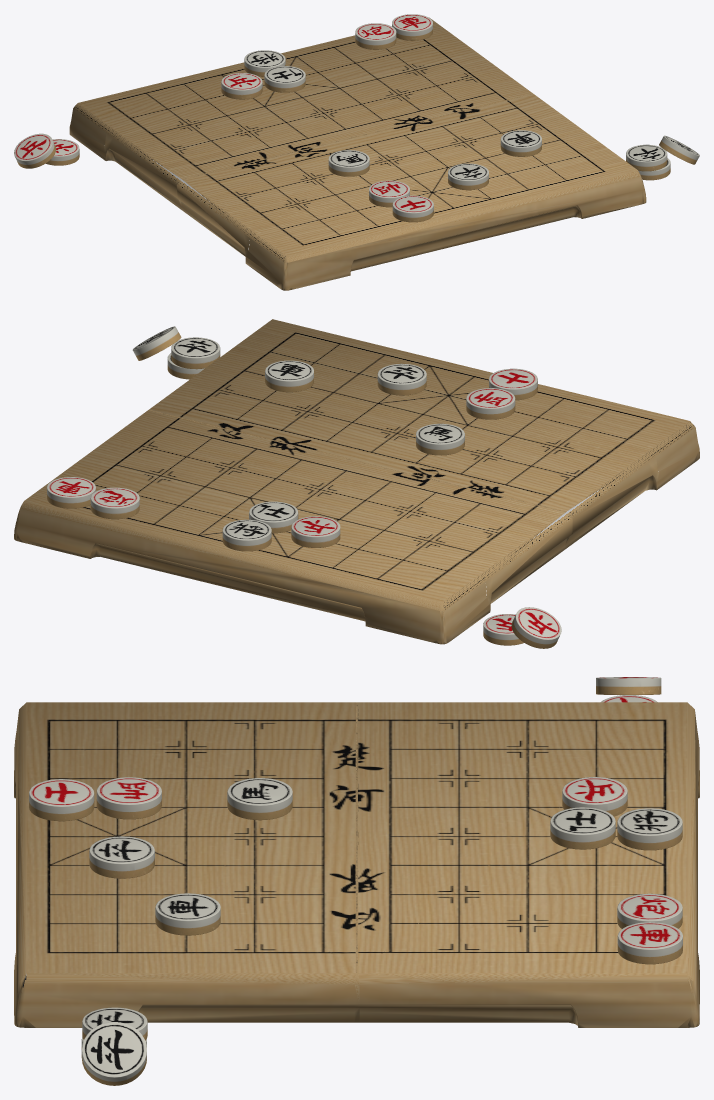
File: CoTuong.fbx
3 views of the same model, one above another, from view 1: azimuth 30°, elevation 25°; view 2: azimuth 150°, elevation 25°; view 3: azimuth 270°, elevation 25° (orthographic). The views are drawn at different scales.
Visible parts, largest first — view 1: model_1, model_1.001; view 2: model_1, model_1.001; view 3: model_1, model_1.001.
Boxes of the visible parts, left/top/right/bottom form: model_1: left=69, top=17, right=646, bottom=290; model_1.001: left=14, top=14, right=699, bottom=222; model_1: left=14, top=319, right=699, bottom=644; model_1.001: left=47, top=326, right=561, bottom=648; model_1: left=14, top=702, right=699, bottom=1027; model_1.001: left=29, top=677, right=682, bottom=1085.
Size of the model in its own units: 3401 by 261 by 2470.
Materials: 2 (2 with a texture image).
